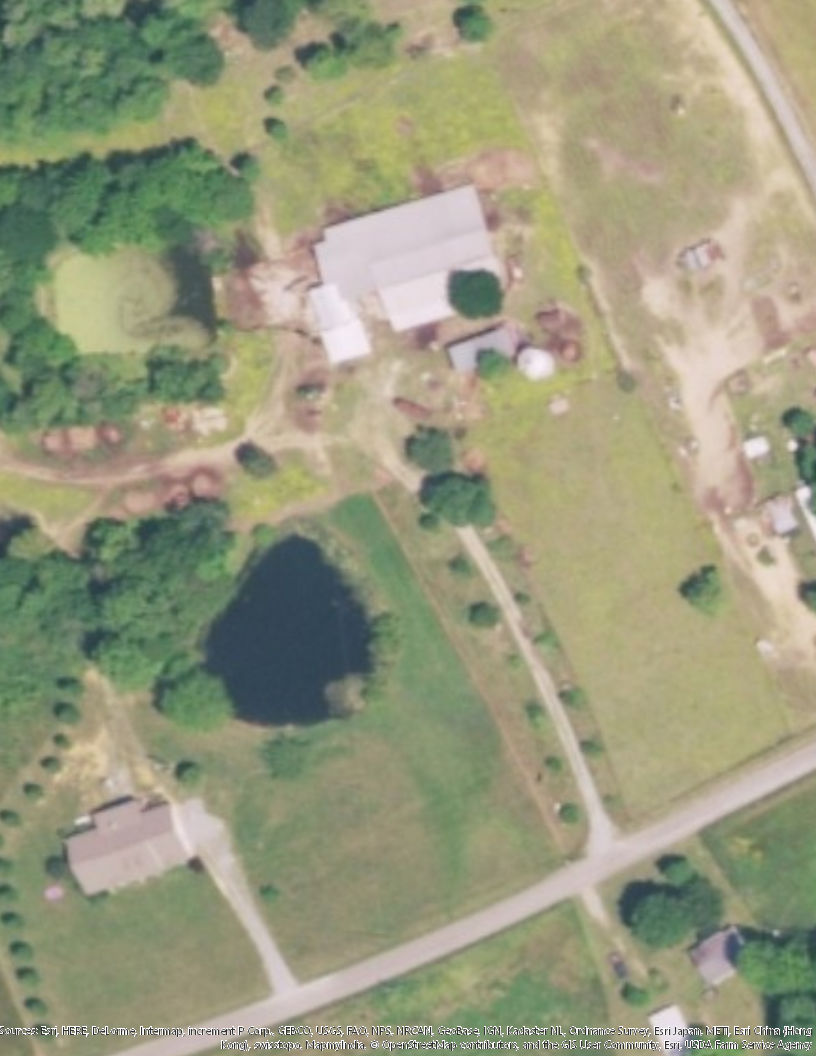cafo: (278, 191, 524, 348)
